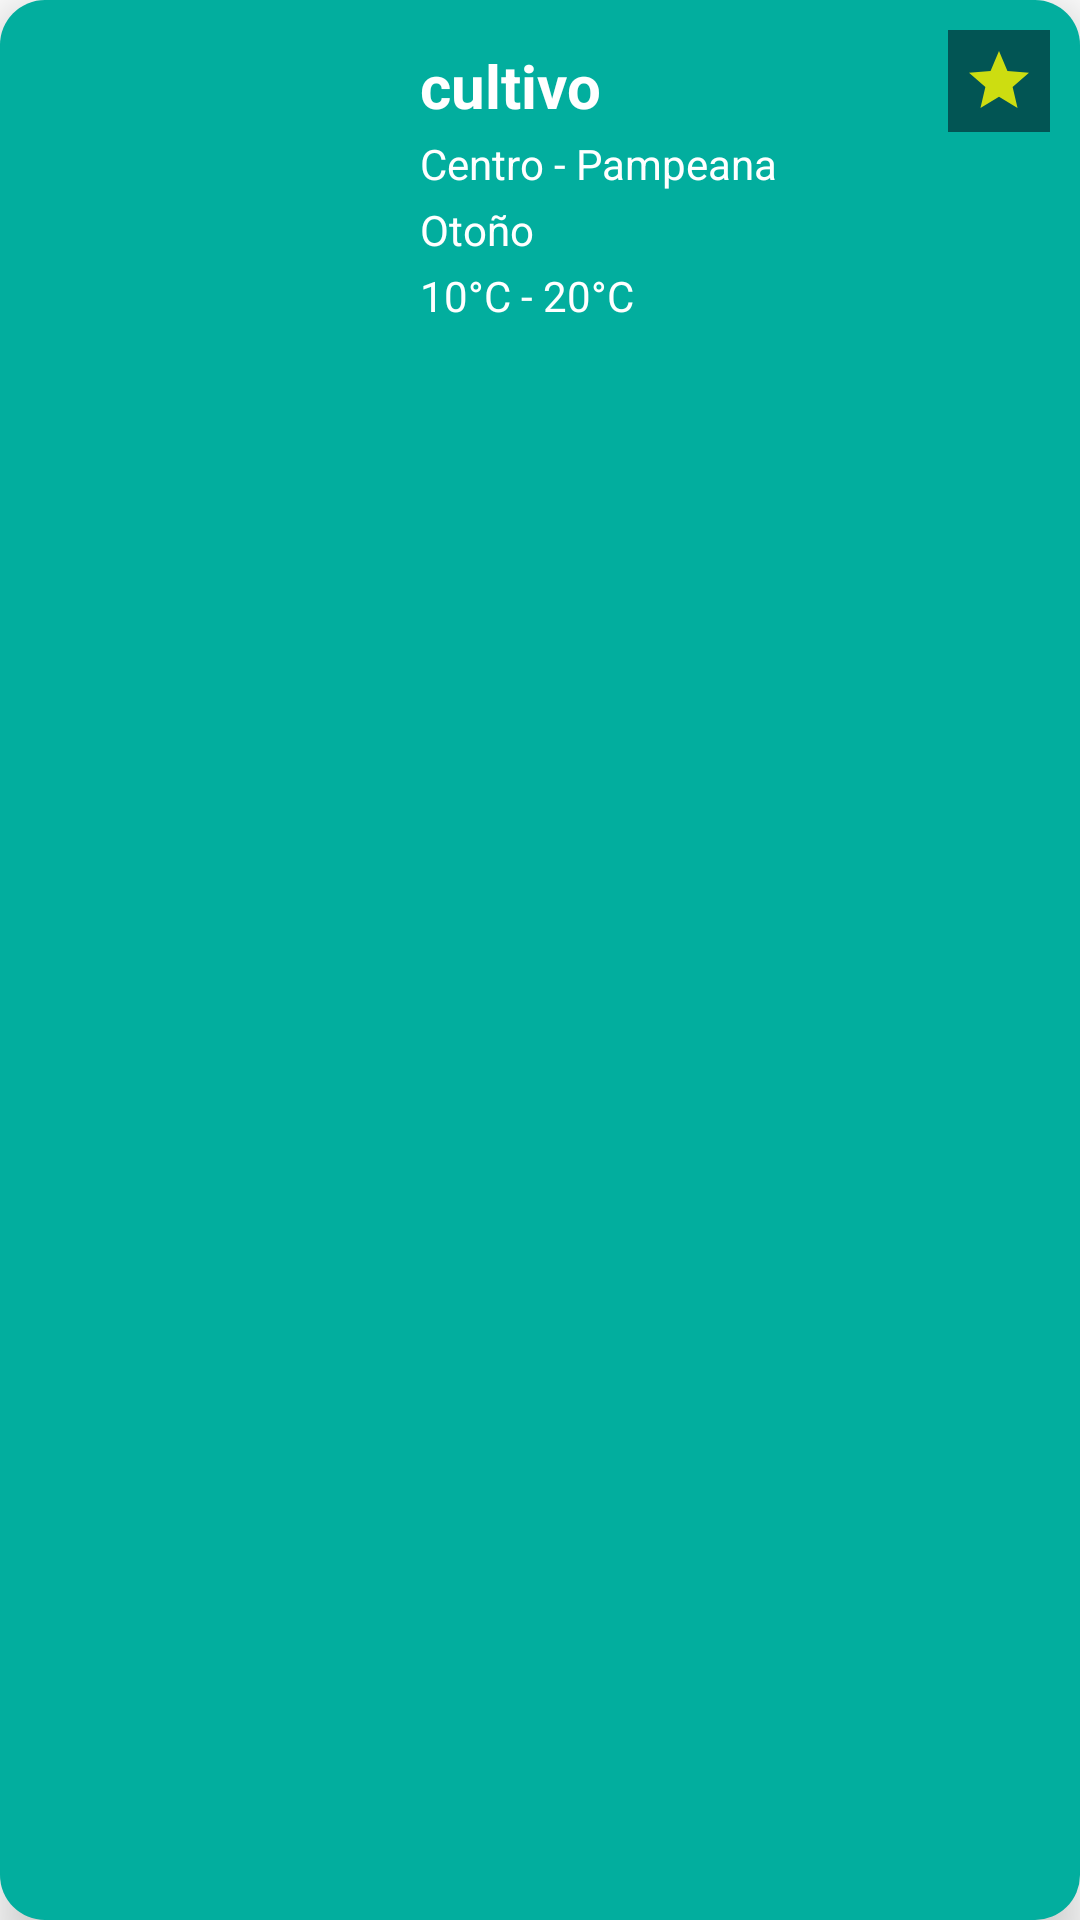

Where to tap for icons on this 1080*1920 app screen, as (x,y):
Favoritos: (999,81)
